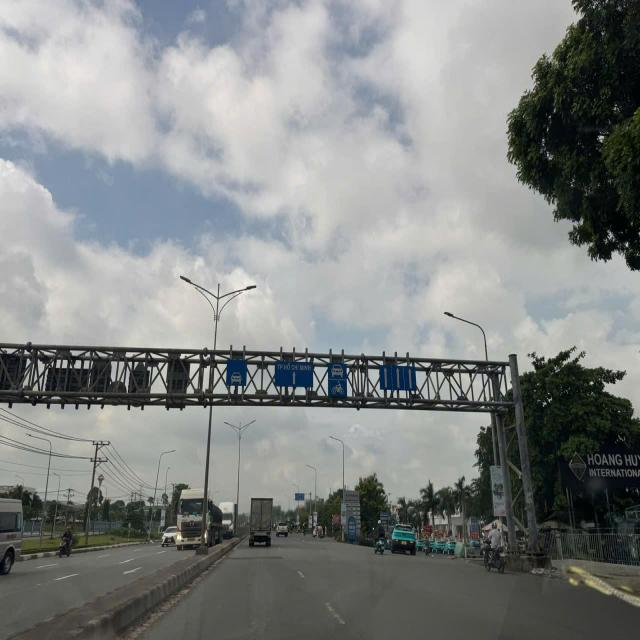Dump Truck: (176, 486, 223, 551), (218, 498, 238, 538)
Truck: (250, 498, 271, 548)
car: (392, 523, 417, 562), (162, 524, 180, 552), (273, 520, 288, 537)
motobyte: (486, 526, 506, 574), (374, 524, 385, 559), (58, 527, 68, 560), (302, 524, 306, 538), (318, 528, 322, 538)
